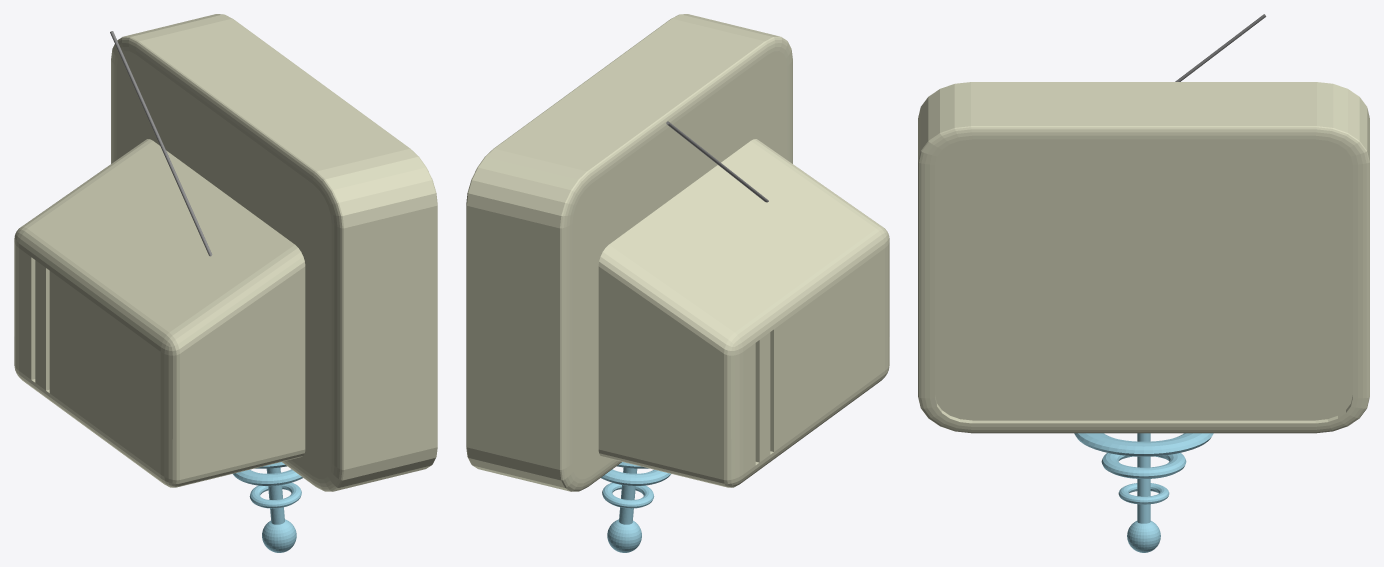
Rendered from Robot v3.fbx.
3 views of the same model, side by side, from view 1: azimuth 30°, elevation 25°; view 2: azimuth 150°, elevation 25°; view 3: azimuth 270°, elevation 25° (orthographic). The views are drawn at different scales.
Visible parts, largest first — view 1: Robot, Antenna, Sphere, Torus.001, Torus.002, Asta; view 2: Robot, Sphere, Torus.001, Torus.002, Asta, Antenna; view 3: Schermo, Robot, Torus, Torus.001, Sphere, Asta, Torus.002.
Part boxes in pixels (x1,y1,x2,y2): Robot: [14, 14, 437, 491]; Antenna: [110, 31, 212, 256]; Sphere: [262, 519, 296, 552]; Torus.001: [233, 469, 302, 486]; Torus.002: [249, 482, 301, 508]; Asta: [266, 467, 284, 524]; Robot: [466, 14, 889, 491]; Sphere: [607, 519, 641, 552]; Torus.001: [601, 469, 670, 486]; Torus.002: [602, 482, 654, 508]; Asta: [619, 467, 637, 524]; Antenna: [666, 121, 768, 202]; Schermo: [935, 139, 1352, 420]; Robot: [918, 82, 1369, 433]; Torus: [1074, 433, 1213, 456]; Torus.001: [1101, 453, 1186, 478]; Sphere: [1127, 521, 1160, 552]; Asta: [1137, 433, 1150, 523]; Torus.002: [1118, 483, 1169, 504].
Bounding box in the file's own units: 38.72 × 76.15 × 64.
